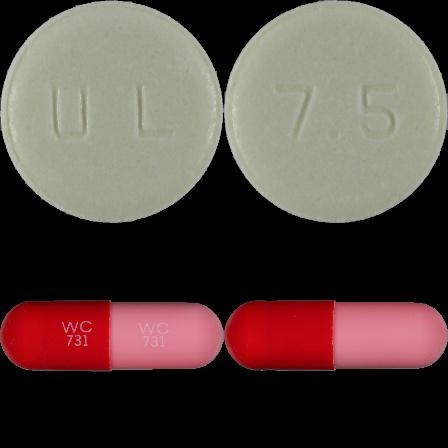50436-0098: (0, 0, 224, 224)
